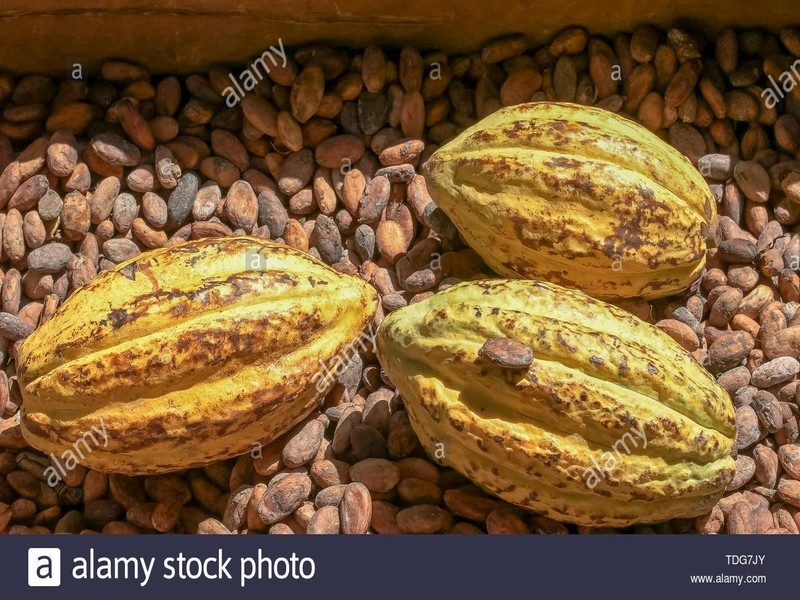Cacaopod: (14, 231, 390, 479), (377, 275, 741, 529), (420, 96, 726, 300)
